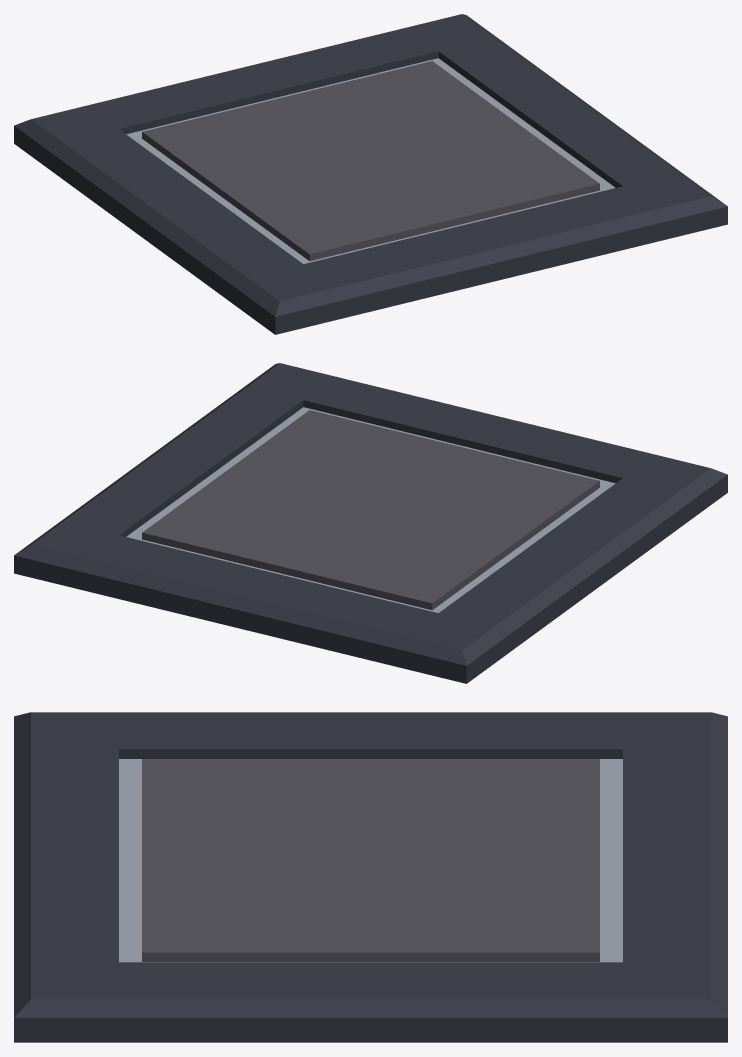
The model's file is BLUCK_TILE.fbx.
3 renders of one model, top to bottom at view 1: azimuth 30°, elevation 25°; view 2: azimuth 150°, elevation 25°; view 3: azimuth 270°, elevation 25°, orthographic. The views are drawn at different scales.
Parts seen in each view (by area): view 1: pCube1; view 2: pCube1; view 3: pCube1.
Boxes of the visible parts, left/top/right/bottom form: pCube1: left=14, top=14, right=727, bottom=334; pCube1: left=14, top=363, right=727, bottom=683; pCube1: left=14, top=712, right=727, bottom=1042.
Size of the model in its own units: 8 by 0.4456 by 8.
1 material, 1 textured.
